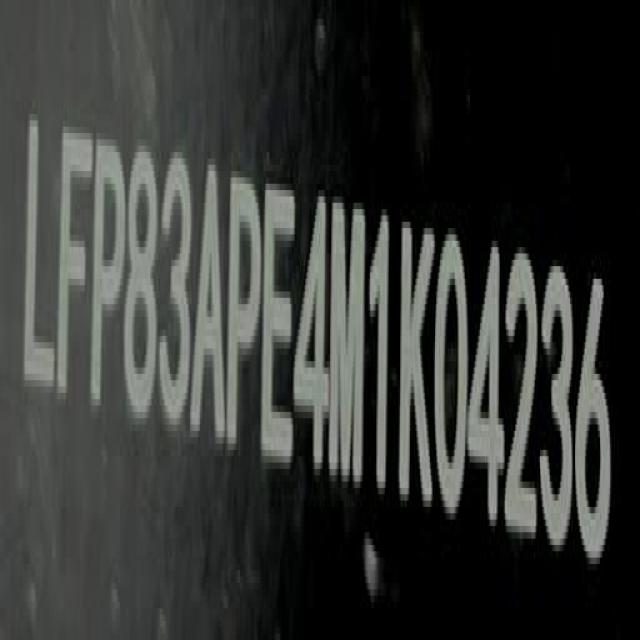0: (434, 232, 469, 544)
1: (368, 207, 394, 498)
2: (503, 249, 539, 547)
3: (156, 143, 193, 444), (541, 258, 572, 547)
4: (295, 174, 332, 500), (468, 237, 506, 552)
6: (574, 267, 613, 558)
8: (123, 143, 158, 437)
A: (192, 150, 227, 467)
E: (264, 176, 294, 474)
F: (54, 136, 94, 406)
K: (396, 228, 436, 523)
L: (20, 112, 56, 422)
M: (330, 202, 364, 490)
P: (226, 162, 264, 476), (91, 118, 125, 436)
